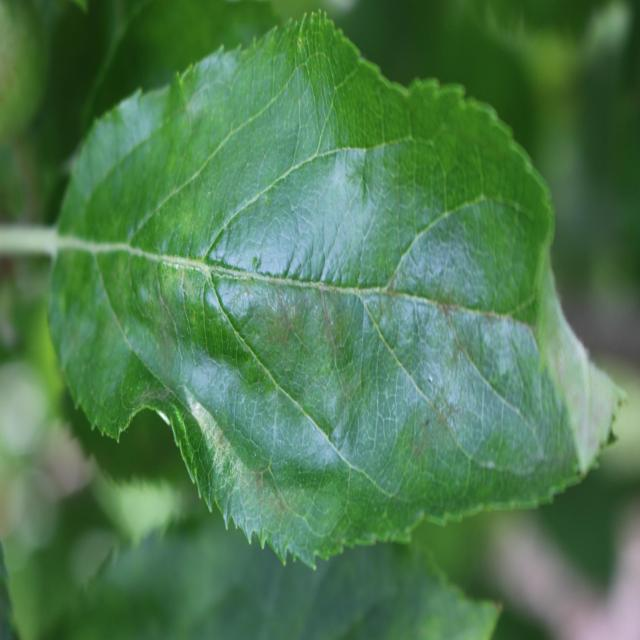scab: (54, 227, 535, 432), (212, 442, 294, 537)
